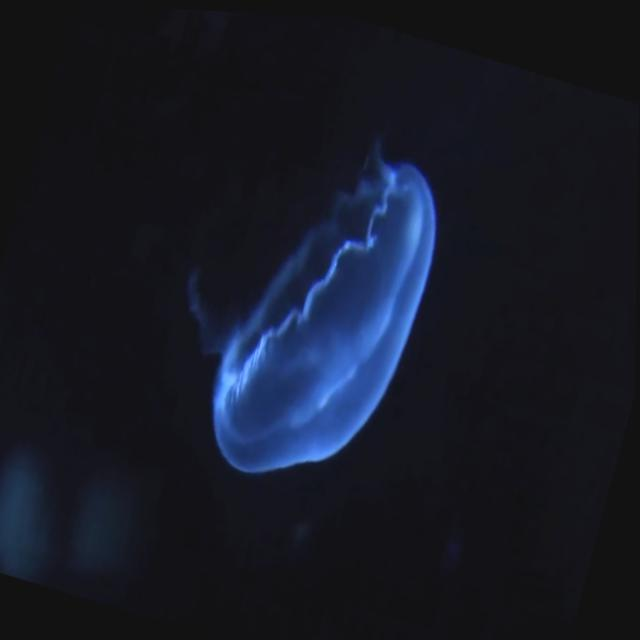Moon-jellyfish: (187, 138, 435, 468)
